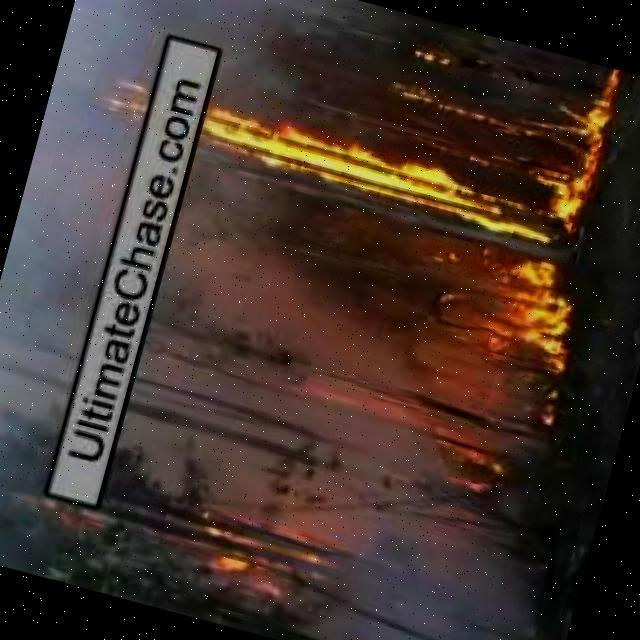fire: (199, 91, 604, 252), (168, 505, 334, 612), (481, 256, 598, 384), (421, 438, 515, 506), (569, 72, 620, 166), (86, 70, 154, 128)
